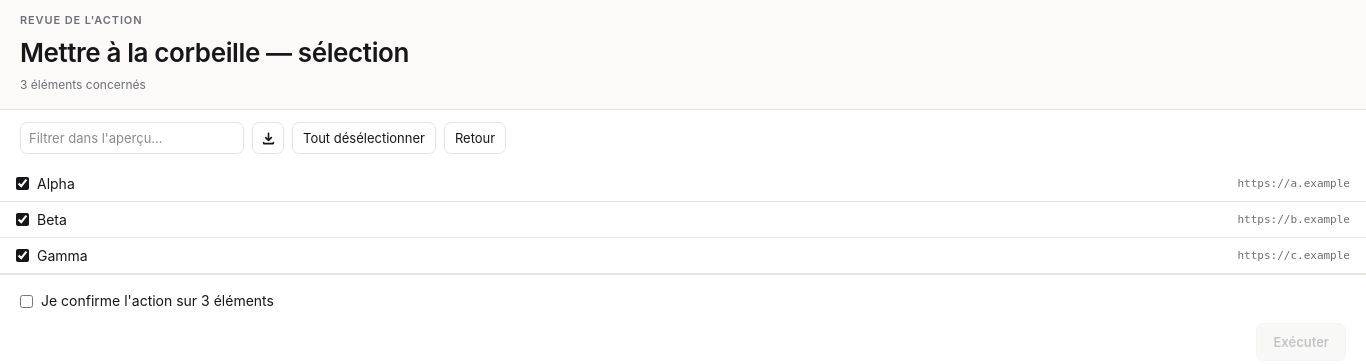
ReviewPage — la désélection globale se défait › « Tout désélectionner » devient « Tout sélectionner », qui recoche tout
Step 1. Click the button "Tout désélectionner" → (364, 138), box [292, 122, 436, 154]
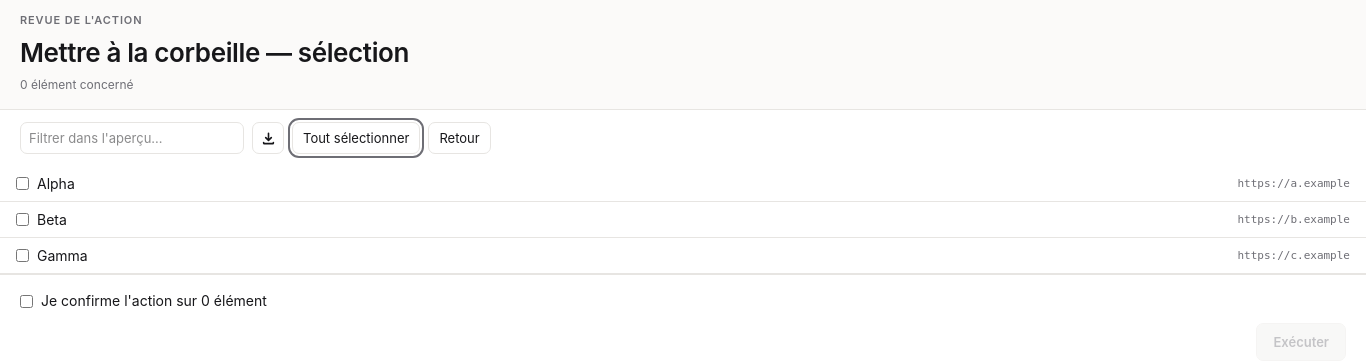
Step 2. Click the button "Tout sélectionner" → (356, 138), box [292, 122, 420, 154]
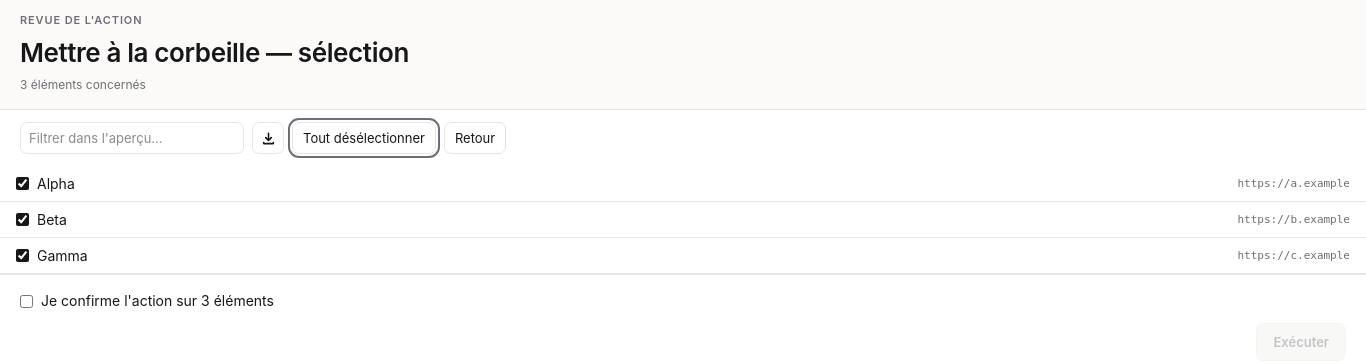
Result: the text "Je confirme l'action sur 3 éléments" is shown at [20, 292, 274, 309]
Result: the button "Tout désélectionner" is shown at [292, 122, 436, 154]
